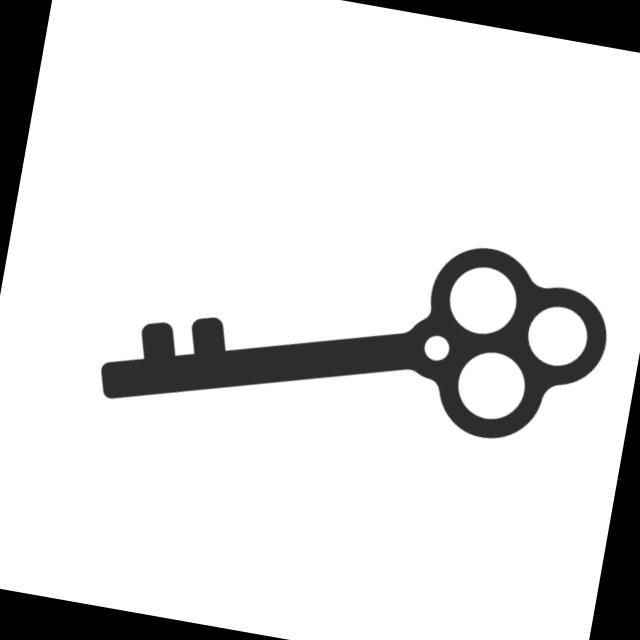key: (94, 179, 633, 494)
